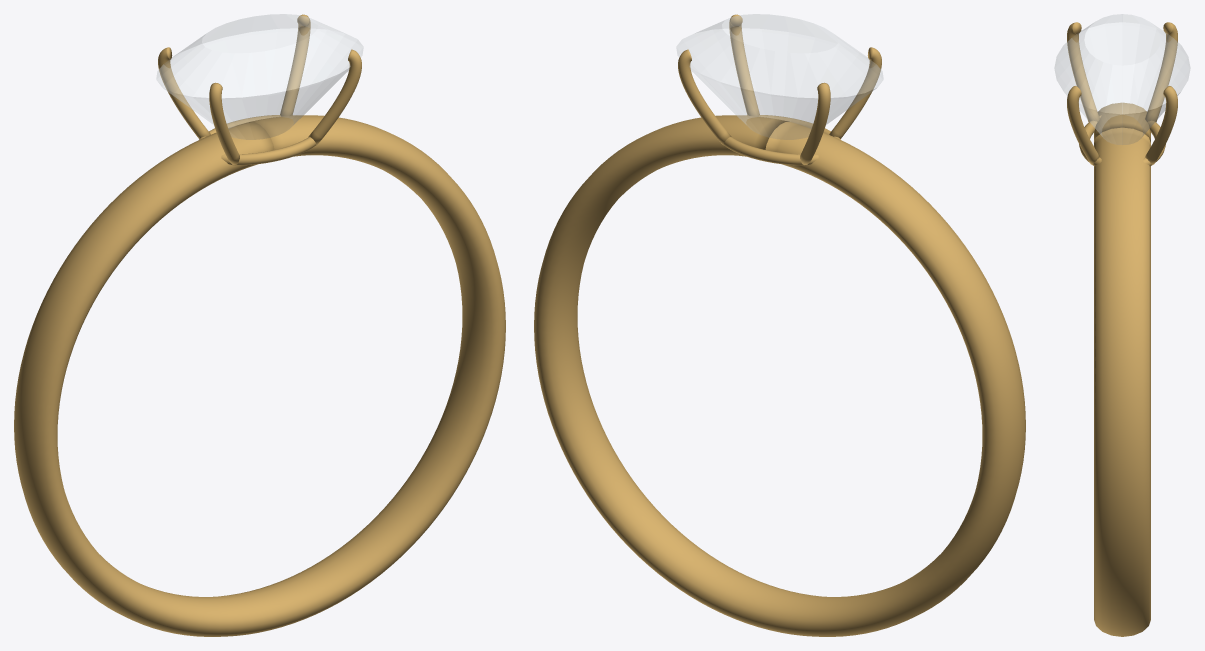
The model's file is layouts-east-west.glb.
3 views of the same model, side by side, from view 1: azimuth 30°, elevation 25°; view 2: azimuth 150°, elevation 25°; view 3: azimuth 270°, elevation 25° (orthographic). The views are drawn at different scales.
Visible parts, largest first — view 1: Band, Gem, Prong, Prong.003, Lower gallery, Prong.001, Prong.002; view 2: Band, Gem, Prong.003, Prong, Lower gallery, Prong.002, Prong.001; view 3: Band, Gem, Prong.001, Prong.002, Prong, Prong.003, Lower gallery.
Boxes of the visible parts, bbox=[...] form: Band: bbox=[14, 115, 505, 636]; Gem: bbox=[156, 14, 363, 139]; Prong: bbox=[280, 14, 310, 116]; Prong.003: bbox=[308, 49, 361, 145]; Lower gallery: bbox=[199, 115, 315, 165]; Prong.001: bbox=[158, 47, 210, 138]; Prong.002: bbox=[209, 82, 239, 164]; Band: bbox=[534, 115, 1025, 636]; Gem: bbox=[676, 14, 883, 139]; Prong.003: bbox=[729, 14, 759, 116]; Prong: bbox=[678, 49, 731, 145]; Lower gallery: bbox=[724, 115, 840, 165]; Prong.002: bbox=[829, 47, 881, 138]; Prong.001: bbox=[800, 82, 830, 164]; Band: bbox=[1094, 102, 1150, 636]; Gem: bbox=[1054, 14, 1190, 144]; Prong.001: bbox=[1145, 22, 1177, 122]; Prong.002: bbox=[1067, 22, 1099, 122]; Prong: bbox=[1145, 86, 1177, 165]; Prong.003: bbox=[1067, 86, 1099, 165]; Lower gallery: bbox=[1079, 115, 1165, 166].
Bounding box in the file's own units: 19.6 × 23.15 × 5.
